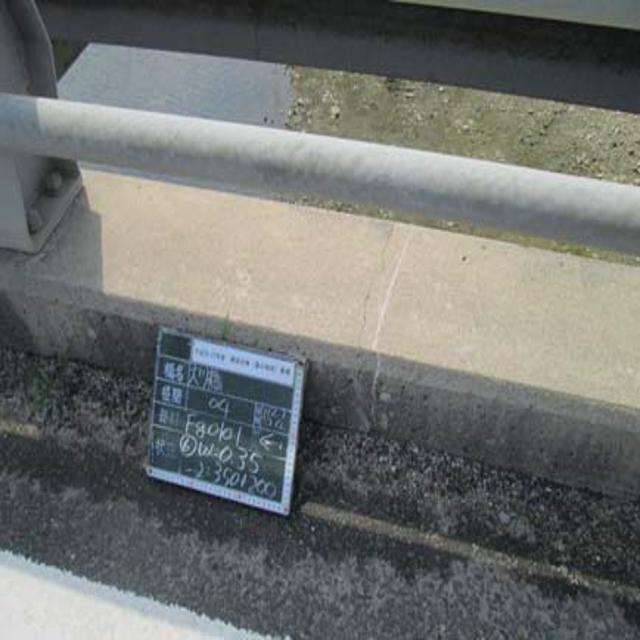crack: (344, 217, 397, 429)
